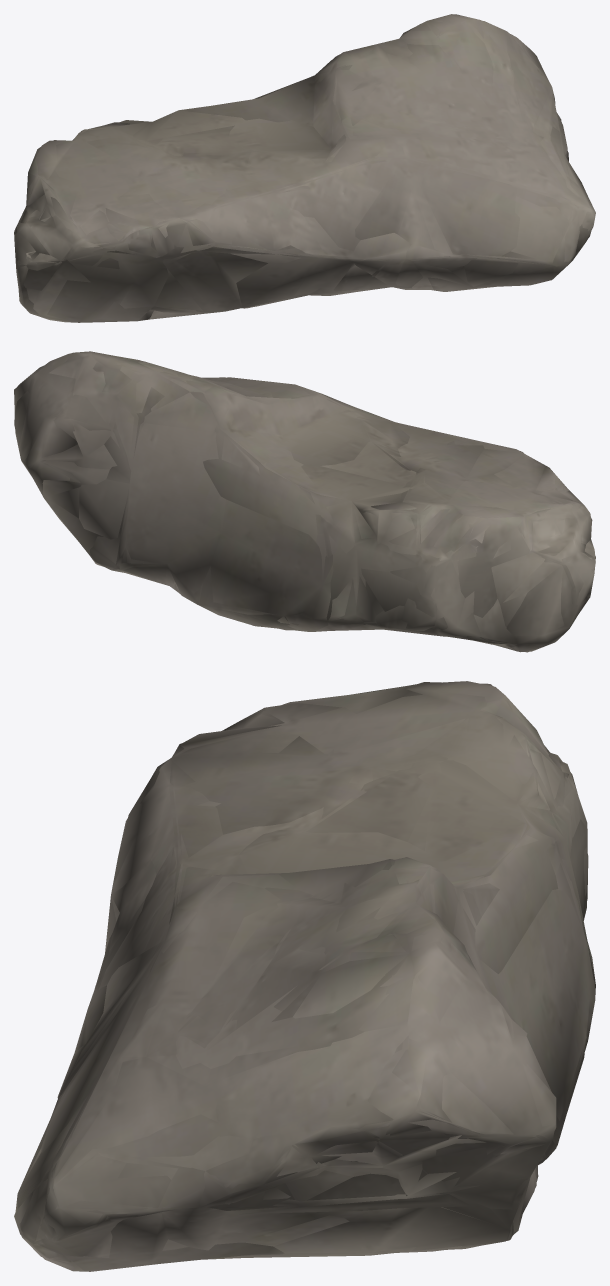
Rendered from moon_rock_01.glb.
The picture shows the model from 3 angles, top to bottom: view 1: azimuth 30°, elevation 25°; view 2: azimuth 150°, elevation 25°; view 3: azimuth 270°, elevation 25°; orthographic projection. The views are drawn at different scales.
Parts seen in each view (by area): view 1: moon_rock_01_LOD0; view 2: moon_rock_01_LOD0; view 3: moon_rock_01_LOD0.
Boxes of the visible parts, x1,y1,x2,y2 form: moon_rock_01_LOD0: [14, 14, 595, 322]; moon_rock_01_LOD0: [14, 351, 595, 652]; moon_rock_01_LOD0: [14, 681, 595, 1271].
Bounding box in the file's own units: 0.2123 × 0.0751 × 0.1114.
Materials: 1 (1 with a texture image).
